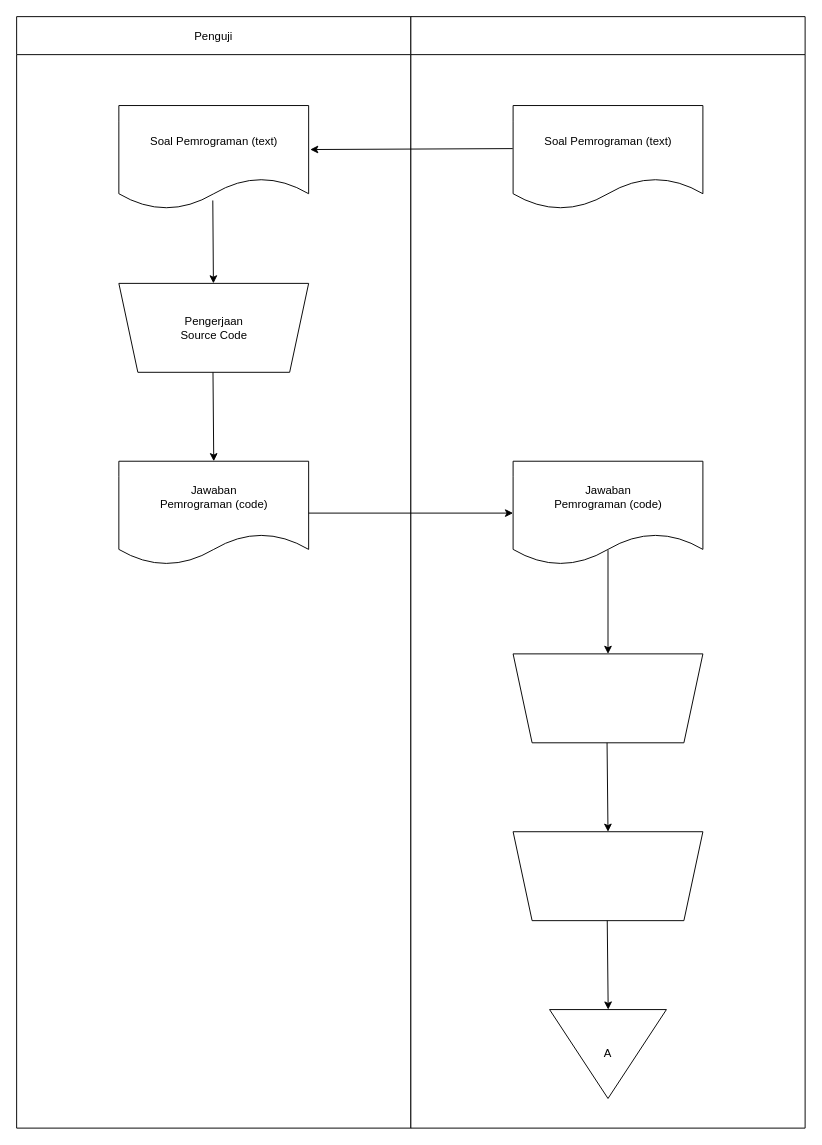
Some shapes in this 822 by 1145 pixel diagram are drawn without their labels. Here are the shapes that lost their labels. From the top down, the box of each, then its label:
(410, 16, 805, 1128): Programmer
(512, 653, 703, 743): Pengecekan Source Code
(512, 831, 703, 921): Penilaian Source Code
